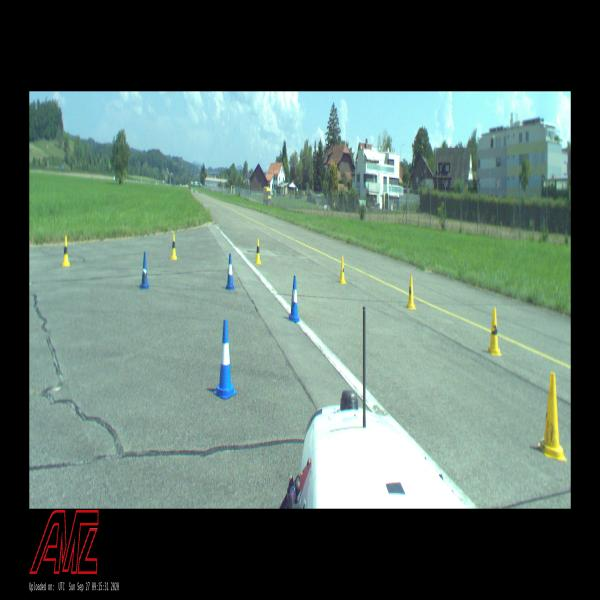blue_cone: (214, 319, 238, 400), (288, 275, 299, 324), (225, 254, 236, 290), (140, 251, 150, 290)
yellow_cone: (538, 372, 566, 461), (486, 307, 502, 356), (407, 274, 416, 310), (62, 236, 70, 267), (170, 233, 178, 260), (339, 256, 346, 284), (255, 238, 262, 264)
